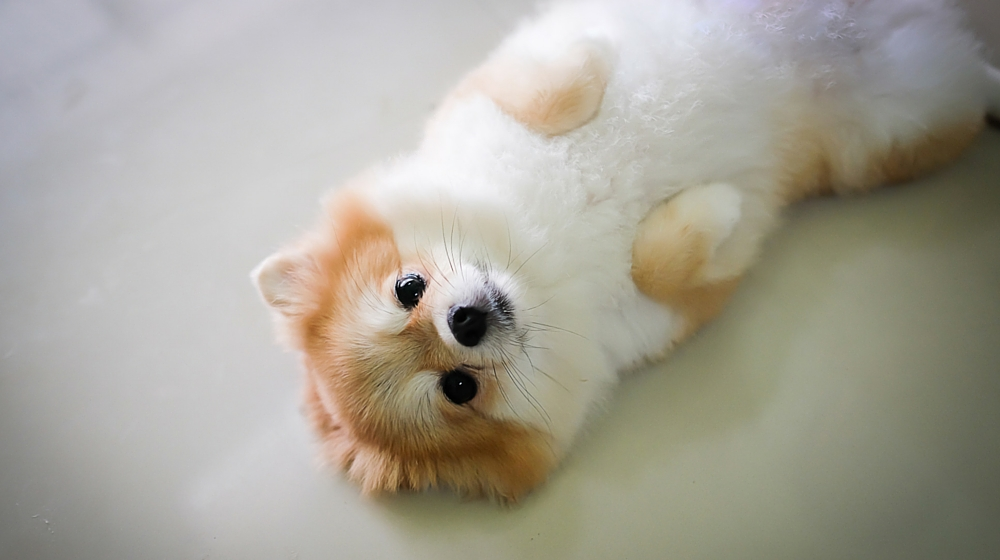pomeranian: (259, 20, 1000, 498)
